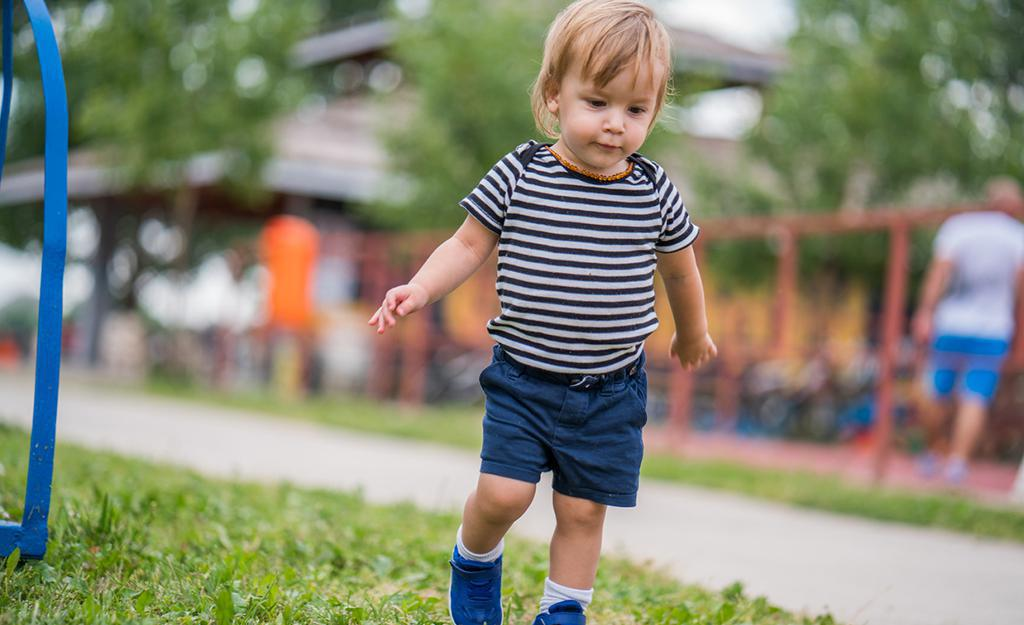child: (368, 1, 720, 625)
